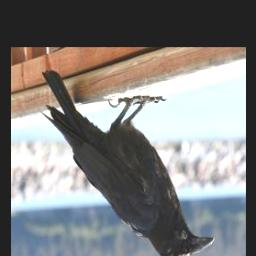Crow: (41, 69, 216, 256)
